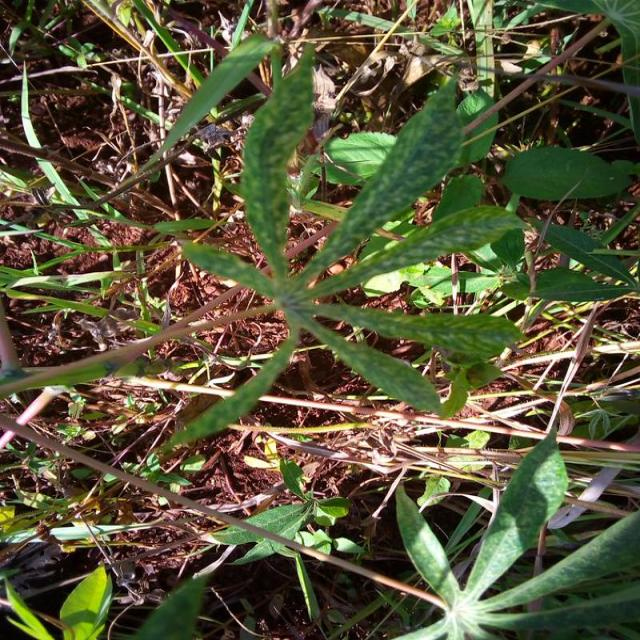cassava leaf: (150, 44, 526, 462), (295, 73, 464, 288), (462, 426, 568, 604), (240, 42, 315, 276), (394, 481, 459, 609), (502, 144, 632, 202)
